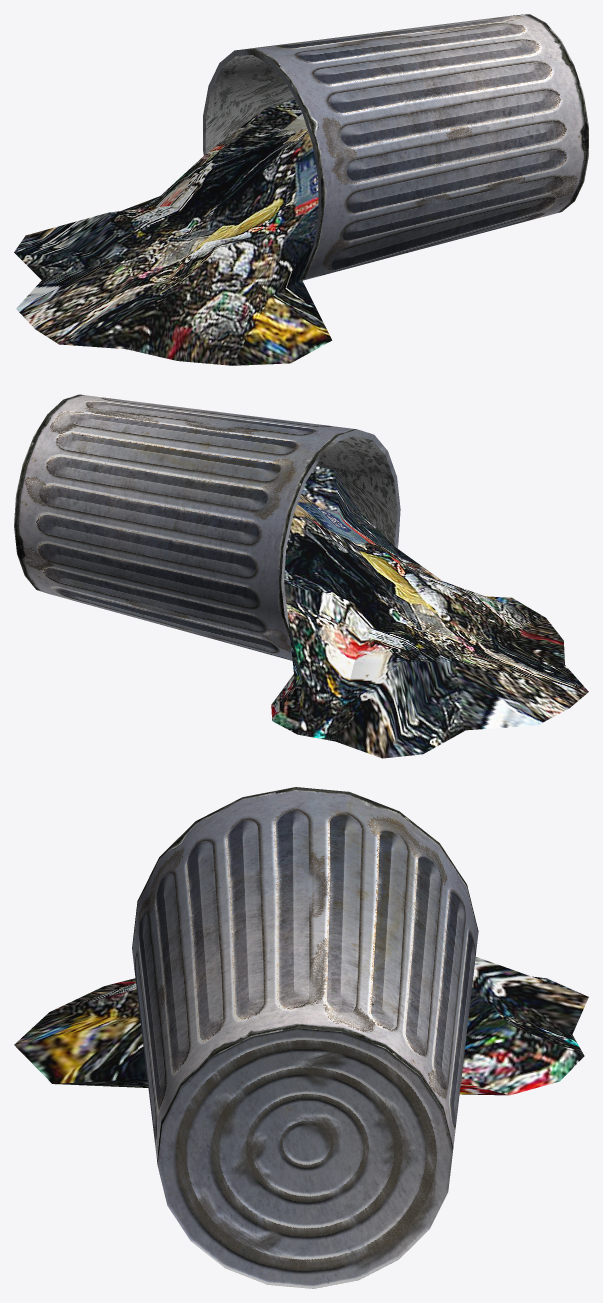
File: garbagecan_dumpedover.fbx
3 renders of one model, top to bottom at view 1: azimuth 30°, elevation 25°; view 2: azimuth 150°, elevation 25°; view 3: azimuth 270°, elevation 25°, orthographic. The views are drawn at different scales.
Visible parts, largest first — view 1: garbage_can_spilt; view 2: garbage_can_spilt; view 3: garbage_can_spilt.
Boxes of the visible parts, x1,y1,x2,y2 form: garbage_can_spilt: (14, 14, 588, 365); garbage_can_spilt: (14, 394, 588, 758); garbage_can_spilt: (14, 787, 588, 1288).
Size of the model in its own units: 1.95 by 0.7838 by 1.31.
